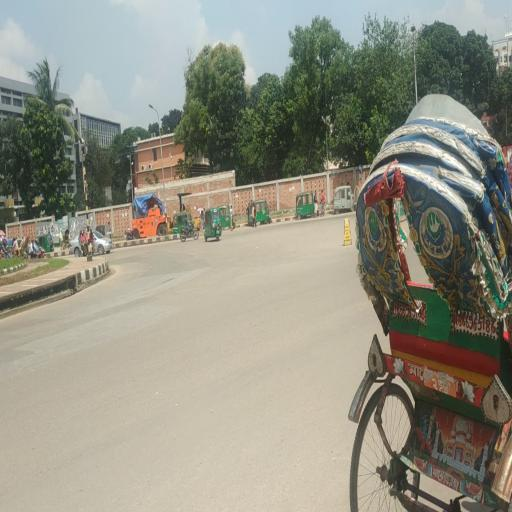motorbike: (179, 227, 201, 242), (126, 229, 135, 242)
rickshaw: (361, 99, 511, 512), (12, 235, 32, 263), (79, 230, 96, 256), (61, 230, 71, 252)
three wheelers (CNG): (247, 200, 274, 227), (295, 193, 321, 220), (334, 186, 357, 215), (204, 209, 223, 242), (222, 206, 237, 233), (38, 236, 55, 252), (102, 226, 113, 241)
